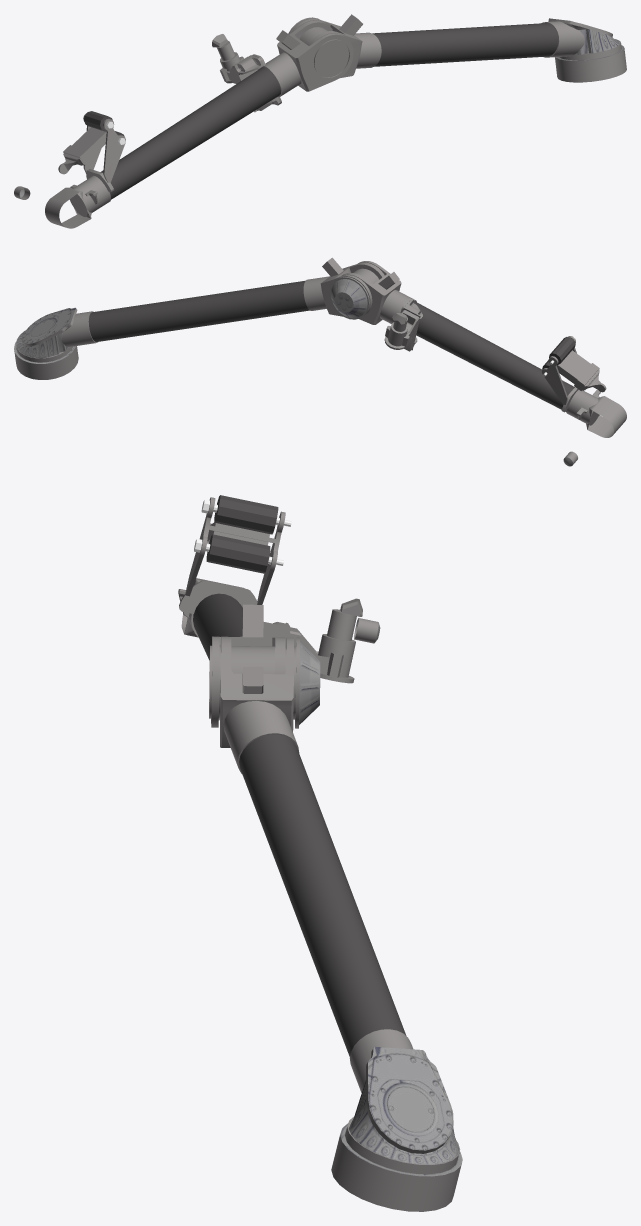
The model's file is susp_left_front.glb.
The picture shows the model from 3 angles, top to bottom: view 1: azimuth 30°, elevation 25°; view 2: azimuth 150°, elevation 25°; view 3: azimuth 270°, elevation 25°; orthographic projection. The views are drawn at different scales.
Parts seen in each view (by area): view 1: suspension.008; view 2: suspension.008; view 3: suspension.008.
Boxes of the visible parts, x1,y1,x2,y2 form: suspension.008: [14, 14, 626, 228]; suspension.008: [14, 257, 626, 466]; suspension.008: [178, 495, 462, 1211].
Size of the model in its own units: 1.76 by 0.4363 by 0.3899.
Materials: 4 (1 with a texture image).
